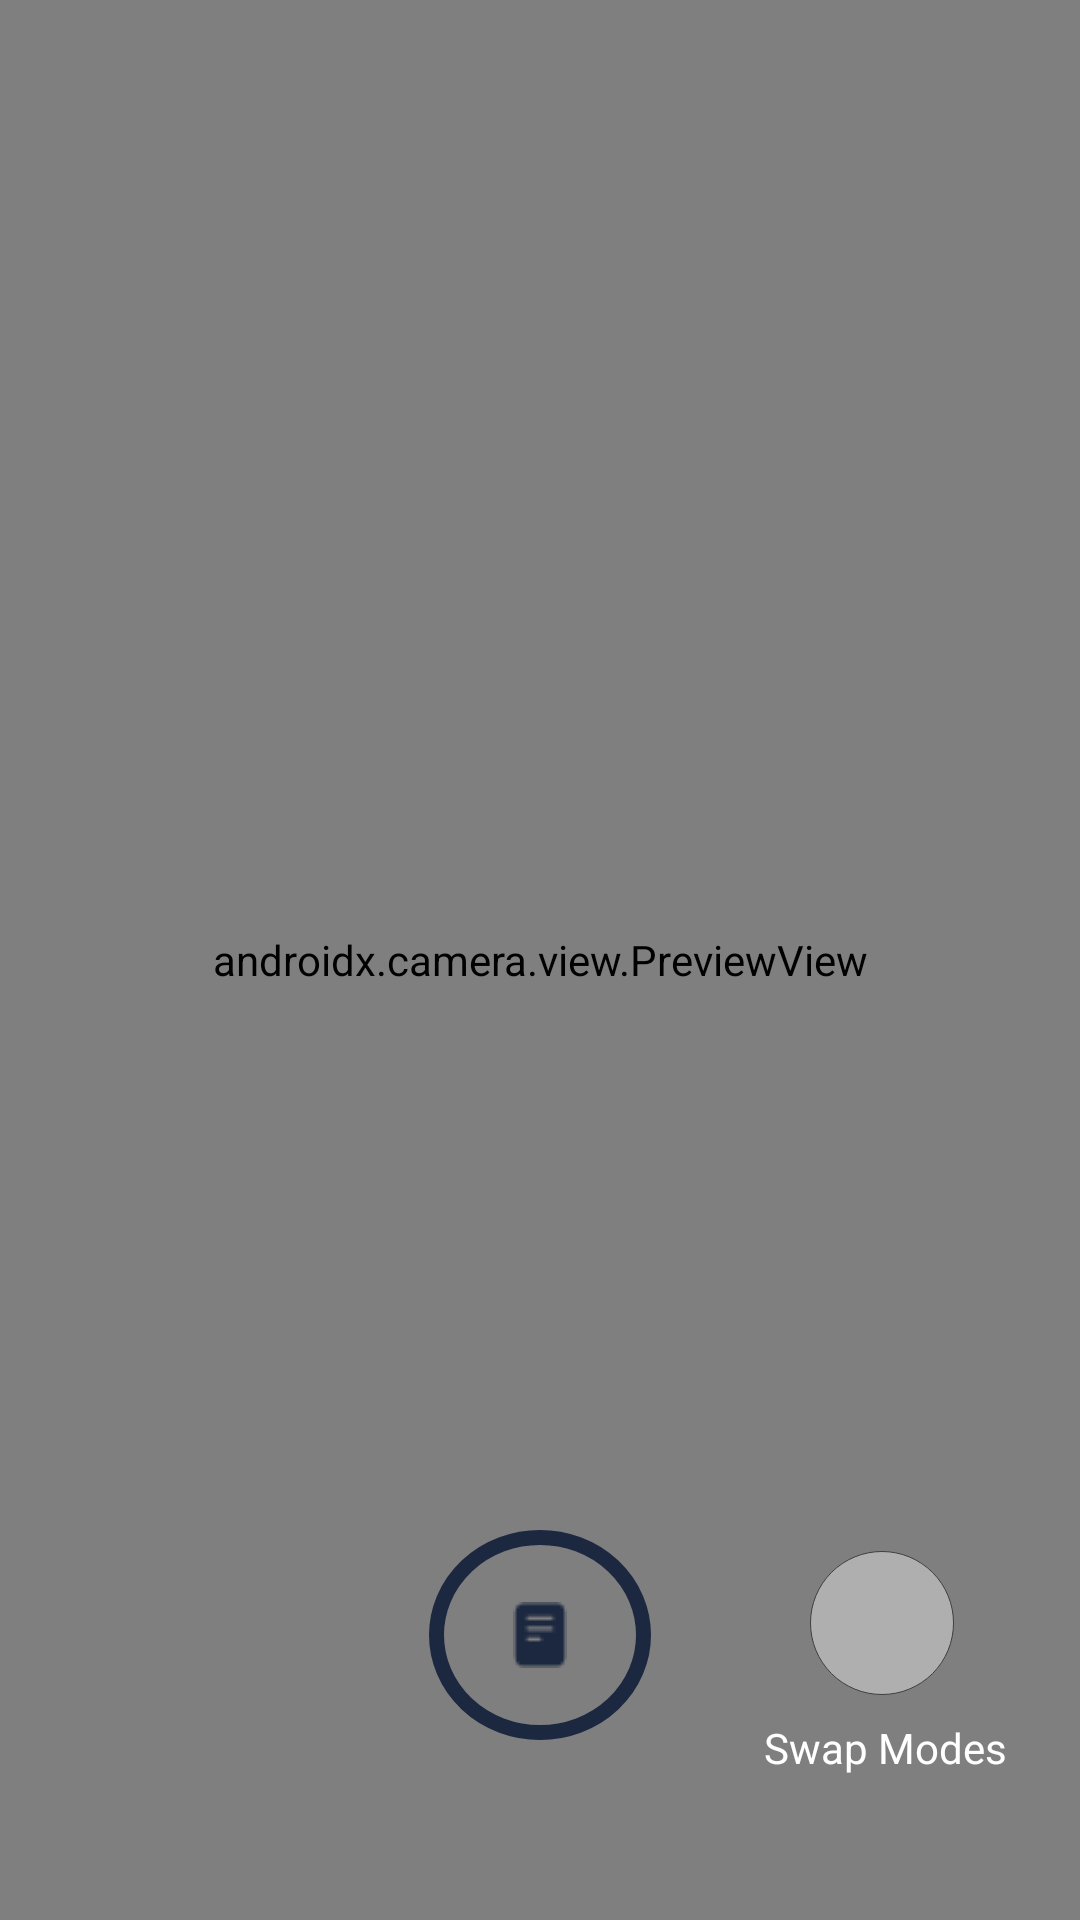

Where to tap for icons on this 1080*1920 app screen, as (x=x, y=y):
note: (x=540, y=1635)
